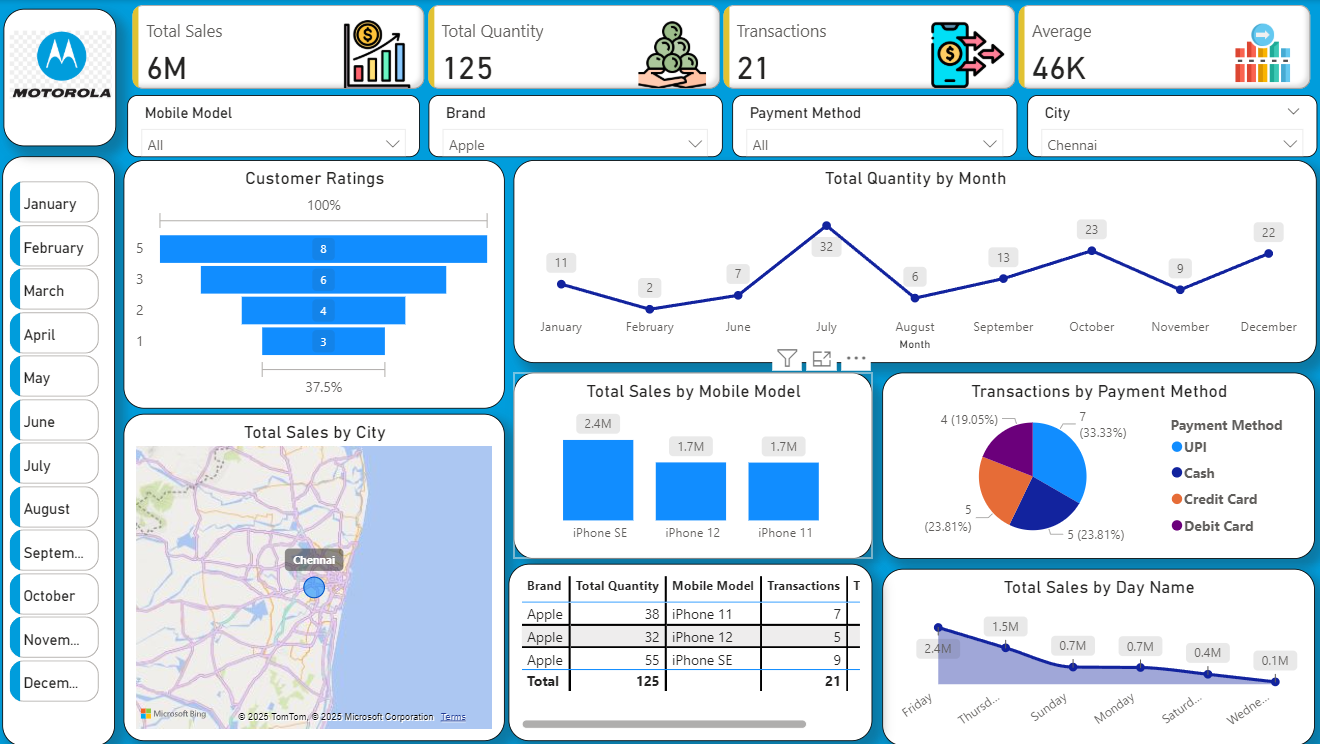

The dashboard page shown, as its layout file describes it:
{"tool":"powerbi","page":{"name":"Page 1","canvas":[1280,720],"ordinal":0},"visuals":[{"type":"shape","box":[6,150.5,108.6,569.4],"z":0},{"type":"shape","box":[7.5,8.8,108.8,132.5],"z":1000},{"type":"image","box":[8.4,0,108.6,125.5],"z":2000},{"type":"advancedSlicerVisual","fields":{"Values":["mobile_sales_data.Date.Variation.Date Hierarchy.Month"]},"box":[8.8,170,96.2,523.8],"z":3000},{"type":"cardVisual","fields":{"Data":["mobile_sales_data.Total Sales","mobile_sales_data.Total Quantity","mobile_sales_data.Transactions","mobile_sales_data.AVERAGE"]},"box":[126.2,0,1148.8,91.2],"z":4000},{"type":"map","fields":{"Category":["mobile_sales_data.City"],"Size":["mobile_sales_data.Total Sales"]},"box":[123.1,399.3,368,316.1],"z":5000},{"type":"lineChart","fields":{"Category":["mobile_sales_data.Date.Variation.Date Hierarchy.Month","mobile_sales_data.Date.Variation.Date Hierarchy.Day"],"Y":["mobile_sales_data.Total Quantity"]},"box":[500,155,775,196.2],"z":6000},{"type":"columnChart","fields":{"Category":["mobile_sales_data.Mobile Model"],"Y":["mobile_sales_data.Total Sales"]},"box":[499.5,359.5,346.2,179.8],"z":7000},{"type":"pieChart","fields":{"Category":["mobile_sales_data.Payment Method"],"Y":["mobile_sales_data.Transactions"]},"box":[855.4,359.5,417.4,179.8],"z":8000},{"type":"funnel","title":" Customer Ratings","fields":{"Category":["mobile_sales_data.Customer Ratings"],"Y":["CountNonNull(mobile_sales_data.Customer Ratings)"]},"box":[123.1,154.4,368,240.1],"z":9000},{"type":"areaChart","fields":{"Category":["mobile_sales_data.Day Name"],"Y":["mobile_sales_data.Total Sales"]},"box":[855.4,548.7,417.4,171.3],"z":10000},{"type":"tableEx","fields":{"Values":["mobile_sales_data.Brand","mobile_sales_data.Total Quantity","mobile_sales_data.Mobile Model","mobile_sales_data.Transactions","mobile_sales_data.Total Sales"]},"box":[494.6,544.1,351.1,171.3],"z":11000},{"type":"slicer","fields":{"Values":["mobile_sales_data.Mobile Model"]},"box":[126.2,91.2,282.5,60],"z":12000},{"type":"slicer","fields":{"Values":["mobile_sales_data.Brand"]},"box":[417.5,91.2,283.8,60],"z":13000},{"type":"slicer","fields":{"Values":["mobile_sales_data.Payment Method"]},"box":[710,91.2,275,60],"z":14000},{"type":"slicer","fields":{"Values":["mobile_sales_data.City"]},"box":[995,91.2,280,60],"z":15000}]}

Visuals, with their boxes in screenshot pixels (x1, y1, x2, y2), scaled from the page's 1280x720 canvas onto the 1320x744 screenshot:
shape: (left=6, top=156, right=118, bottom=743)
shape: (left=8, top=9, right=120, bottom=146)
image: (left=9, top=0, right=121, bottom=130)
advancedSlicerVisual - mobile_sales_data.Date.Variation.Date Hierarchy.Month: (left=9, top=176, right=108, bottom=717)
cardVisual - mobile_sales_data.Total Sales x mobile_sales_data.Total Quantity: (left=130, top=0, right=1315, bottom=94)
map - mobile_sales_data.City x mobile_sales_data.Total Sales: (left=127, top=413, right=506, bottom=739)
lineChart - mobile_sales_data.Date.Variation.Date Hierarchy.Month x mobile_sales_data.Date.Variation.Date Hierarchy.Day: (left=516, top=160, right=1315, bottom=363)
columnChart - mobile_sales_data.Mobile Model x mobile_sales_data.Total Sales: (left=515, top=371, right=872, bottom=557)
pieChart - mobile_sales_data.Payment Method x mobile_sales_data.Transactions: (left=882, top=371, right=1313, bottom=557)
" Customer Ratings" funnel: (left=127, top=160, right=506, bottom=408)
areaChart - mobile_sales_data.Day Name x mobile_sales_data.Total Sales: (left=882, top=567, right=1313, bottom=743)
tableEx - mobile_sales_data.Brand x mobile_sales_data.Total Quantity: (left=510, top=562, right=872, bottom=739)
slicer - mobile_sales_data.Mobile Model: (left=130, top=94, right=421, bottom=156)
slicer - mobile_sales_data.Brand: (left=431, top=94, right=723, bottom=156)
slicer - mobile_sales_data.Payment Method: (left=732, top=94, right=1016, bottom=156)
slicer - mobile_sales_data.City: (left=1026, top=94, right=1315, bottom=156)
